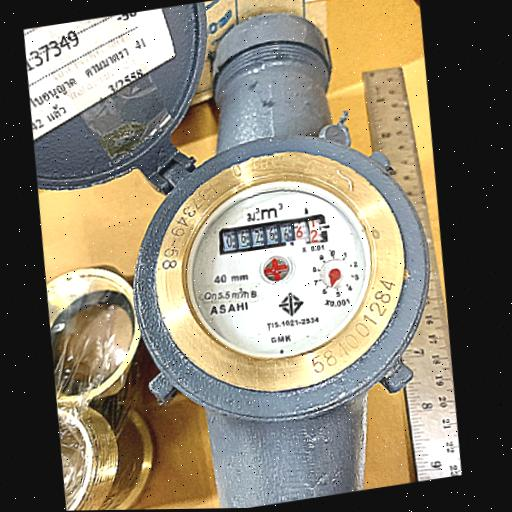0: (222, 232, 237, 251)
2: (308, 220, 322, 243), (251, 227, 264, 247)
6: (265, 225, 280, 244), (237, 229, 251, 248), (293, 221, 307, 239), (280, 223, 293, 242)
border_water_meter_number: (217, 212, 330, 258)
